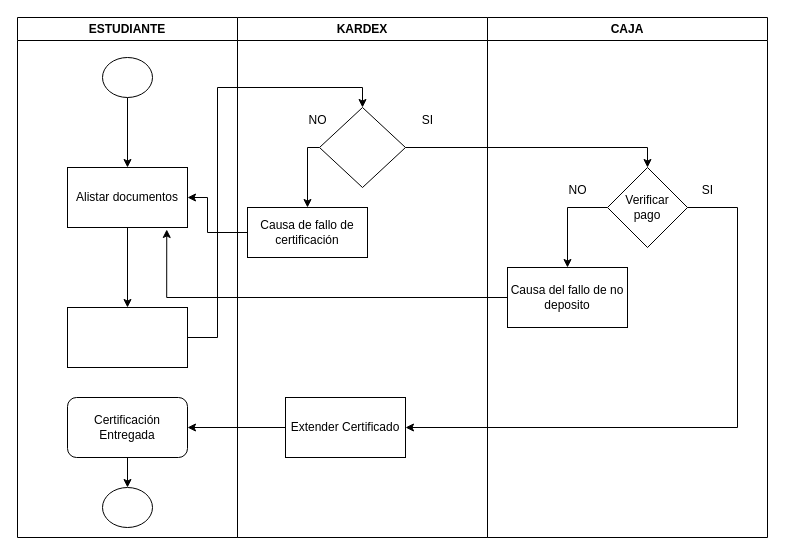
Image size: 785x555. Some labels were removed from this diagram. The shapes that lost their labels are listed below. From the top down, each one's centre as x and y in pixels, then its label:
At pixel 127 77: "INICIO".
At pixel 362 147: "documentos correctos".
At pixel 127 337: "Subir documentos".
At pixel 127 507: "FIN".
